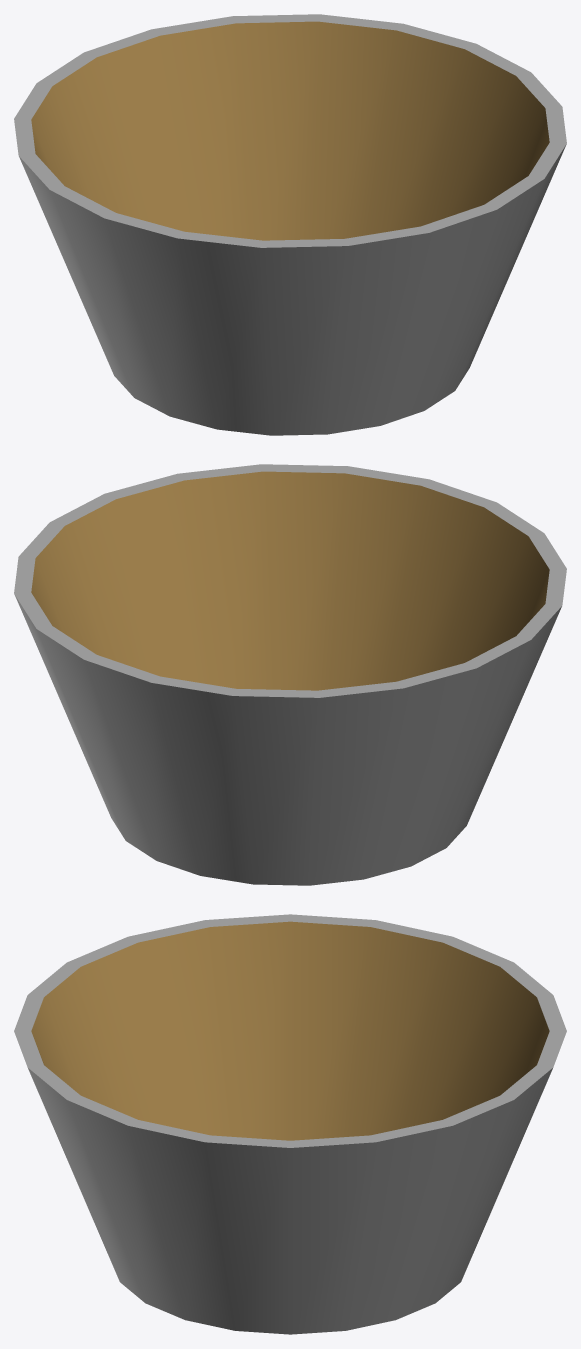
The model's file is SM_Ceiling_Core.fbx.
3 views of the same model, one above another, from view 1: azimuth 30°, elevation 25°; view 2: azimuth 150°, elevation 25°; view 3: azimuth 270°, elevation 25° (orthographic).
Visible parts, largest first — view 1: SM_Ceiling_Core; view 2: SM_Ceiling_Core; view 3: SM_Ceiling_Core.
Part boxes in pixels (x1,y1,x2,y2): SM_Ceiling_Core: (14, 14, 566, 435); SM_Ceiling_Core: (14, 464, 566, 885); SM_Ceiling_Core: (14, 914, 566, 1334).
Bounding box in the file's own units: 2467 × 1121 × 2467.
